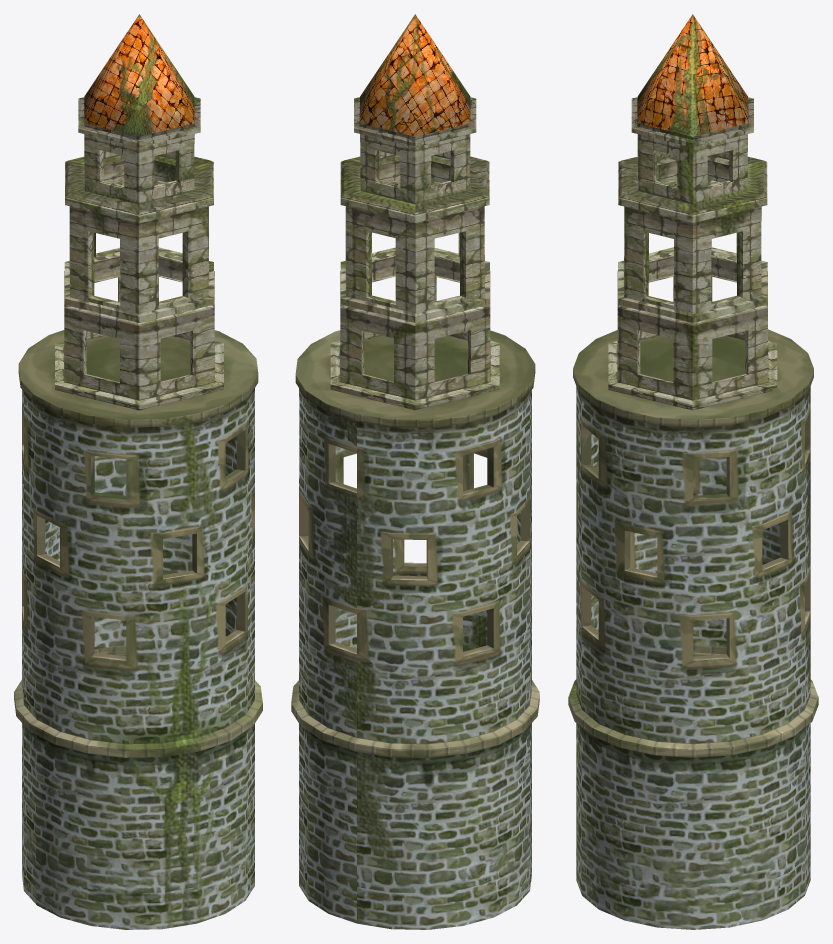
Rendered from tower1.fbx.
The picture shows the model from 3 angles, left to right: view 1: azimuth 30°, elevation 25°; view 2: azimuth 150°, elevation 25°; view 3: azimuth 270°, elevation 25°; orthographic projection.
Visible parts, largest first — view 1: pCylinder3; view 2: pCylinder3; view 3: pCylinder3.
Part boxes in pixels (x1,y1,x2,y2): pCylinder3: (14, 14, 262, 929); pCylinder3: (291, 14, 539, 929); pCylinder3: (568, 14, 818, 929).
Bounding box in the file's own units: 3.05 × 11.65 × 3.05.
